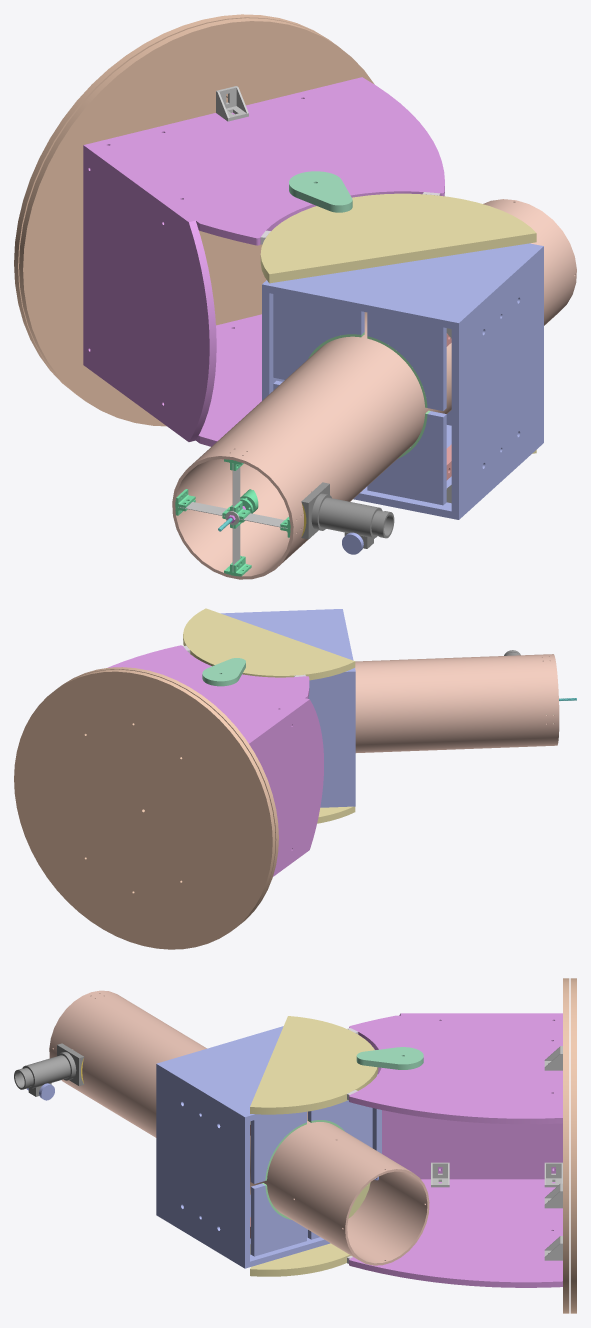
File: Curiosity_6inch_Telescope.gltf
3 renders of one model, top to bottom at view 1: azimuth 30°, elevation 25°; view 2: azimuth 150°, elevation 25°; view 3: azimuth 270°, elevation 25°, orthographic. The views are drawn at different scales.
Visible parts, largest first — view 1: 04-OTA cradle v11 (×10), Component1 (×4), 04-b-Optical Tube_PVC v10 (×3), 000-Final Assembly v2 (×2), Component2 (×3), Alt Bearing 2 (×2), 05-Starscope v3, Component4(Mirror); view 2: Component1 (×4), 04-b-Optical Tube_PVC v10, 04-OTA cradle v11 (×2), Component2, Alt Bearing 2 (×2), 000-Final Assembly v2, Component4(Mirror); view 3: 000-Final Assembly v2 (×4), 04-b-Optical Tube_PVC v10 (×3), 04-OTA cradle v11 (×8), Component2 (×2), Alt Bearing 2 (×2), Component1 (×2), Alt Bearing (×2), 05-Starscope v3, Component4(Mirror).
Boxes of the visible parts, x1,y1,x2,y2 form: 04-OTA cradle v11 (×10): (262,243,543,519); Component1 (×4): (14,14,374,426); 04-b-Optical Tube_PVC v10 (×3): (172,199,576,579); 000-Final Assembly v2 (×2): (90,77,444,441); Component2 (×3): (83,143,216,441); Alt Bearing 2 (×2): (260,193,536,283); 05-Starscope v3: (319,497,378,537); Component4(Mirror): (289,171,352,205); Component1 (×4): (14,667,278,949); 04-b-Optical Tube_PVC v10: (355,654,559,752); 04-OTA cradle v11 (×2): (226,611,355,807); Component2: (249,699,323,876); Alt Bearing 2 (×2): (183,608,355,680); 000-Final Assembly v2: (107,645,309,740); Component4(Mirror): (202,658,245,681); 000-Final Assembly v2 (×4): (349,1015,562,1287); 04-b-Optical Tube_PVC v10 (×3): (49,990,429,1265); 04-OTA cradle v11 (×8): (156,1026,372,1268); Component2 (×2): (377,1013,562,1179); Alt Bearing 2 (×2): (250,1016,378,1114); Component1 (×2): (563,978,576,1313); Alt Bearing (×2): (250,1243,350,1276); 05-Starscope v3: (26,1055,70,1088); Component4(Mirror): (356,1047,423,1064).
Bounding box in the file's own units: 0.9337 × 0.65 × 1.09.
